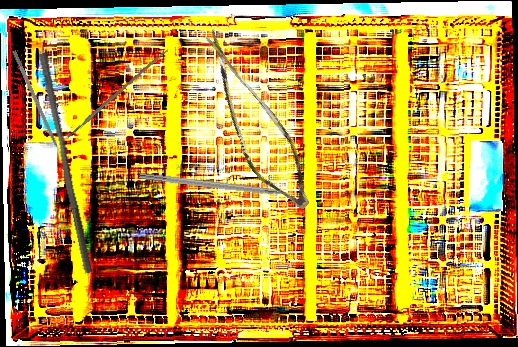Hook Surgical: (11, 50, 64, 161), (139, 171, 308, 202)
Micro Scissor: (164, 27, 340, 218)
Pusher: (30, 52, 102, 274)
Scalpel Handle: (64, 47, 170, 140)
